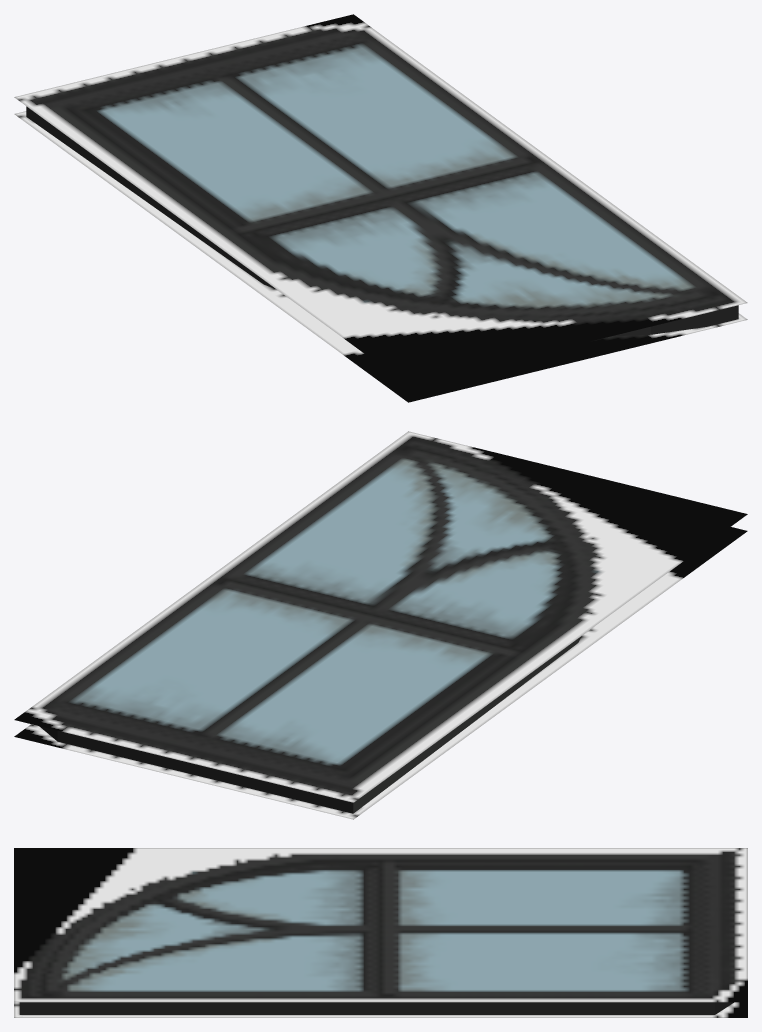
The model's file is pz_native_fixtures_windows_metal_1_frame.obj.
3 renders of one model, top to bottom at view 1: azimuth 30°, elevation 25°; view 2: azimuth 150°, elevation 25°; view 3: azimuth 270°, elevation 25°, orthographic. The views are drawn at different scales.
Parts seen in each view (by area): view 1: pz_native_fixtures_windows_metal_1_frame; view 2: pz_native_fixtures_windows_metal_1_frame; view 3: pz_native_fixtures_windows_metal_1_frame.
Part boxes in pixels (left/top/right/bottom): pz_native_fixtures_windows_metal_1_frame: left=14, top=14, right=747, bottom=402; pz_native_fixtures_windows_metal_1_frame: left=14, top=431, right=747, bottom=819; pz_native_fixtures_windows_metal_1_frame: left=14, top=848, right=747, bottom=1017.
Bounding box in the file's own units: 0.8438 × 0.04 × 1.7.
Materials: 1 (1 with a texture image).
